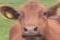muzzles: (20, 24, 41, 38)
